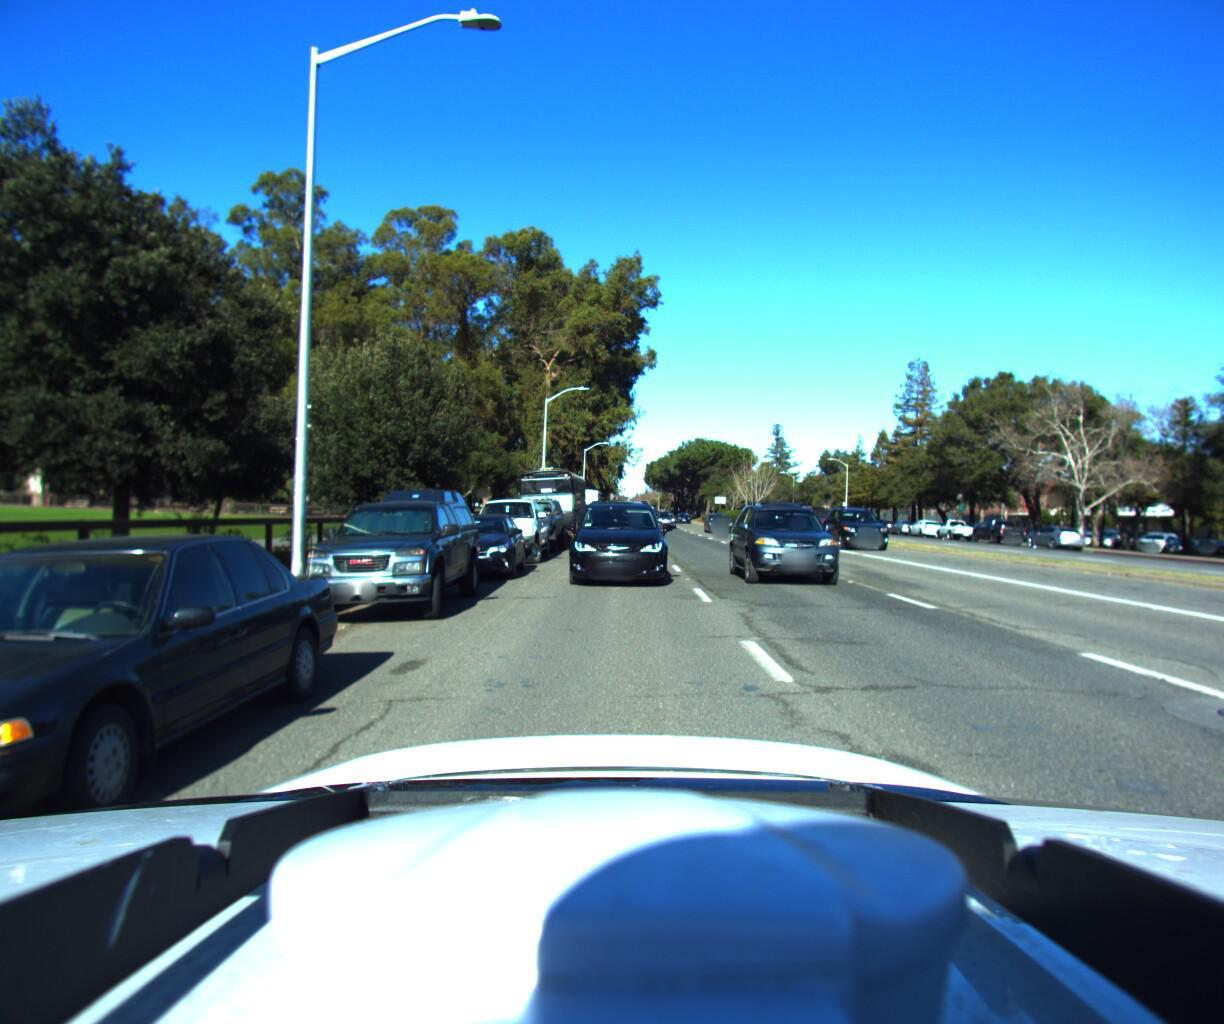bus: (511, 460, 590, 551)
car: (285, 480, 489, 634), (727, 495, 869, 597), (568, 498, 668, 594), (423, 513, 531, 589), (464, 495, 554, 568), (497, 495, 569, 557), (824, 506, 905, 551), (1020, 523, 1091, 553), (968, 516, 1029, 546), (934, 517, 981, 543), (905, 517, 947, 539), (703, 513, 737, 533), (654, 507, 676, 528)
other_vehicle: (557, 485, 604, 535)
